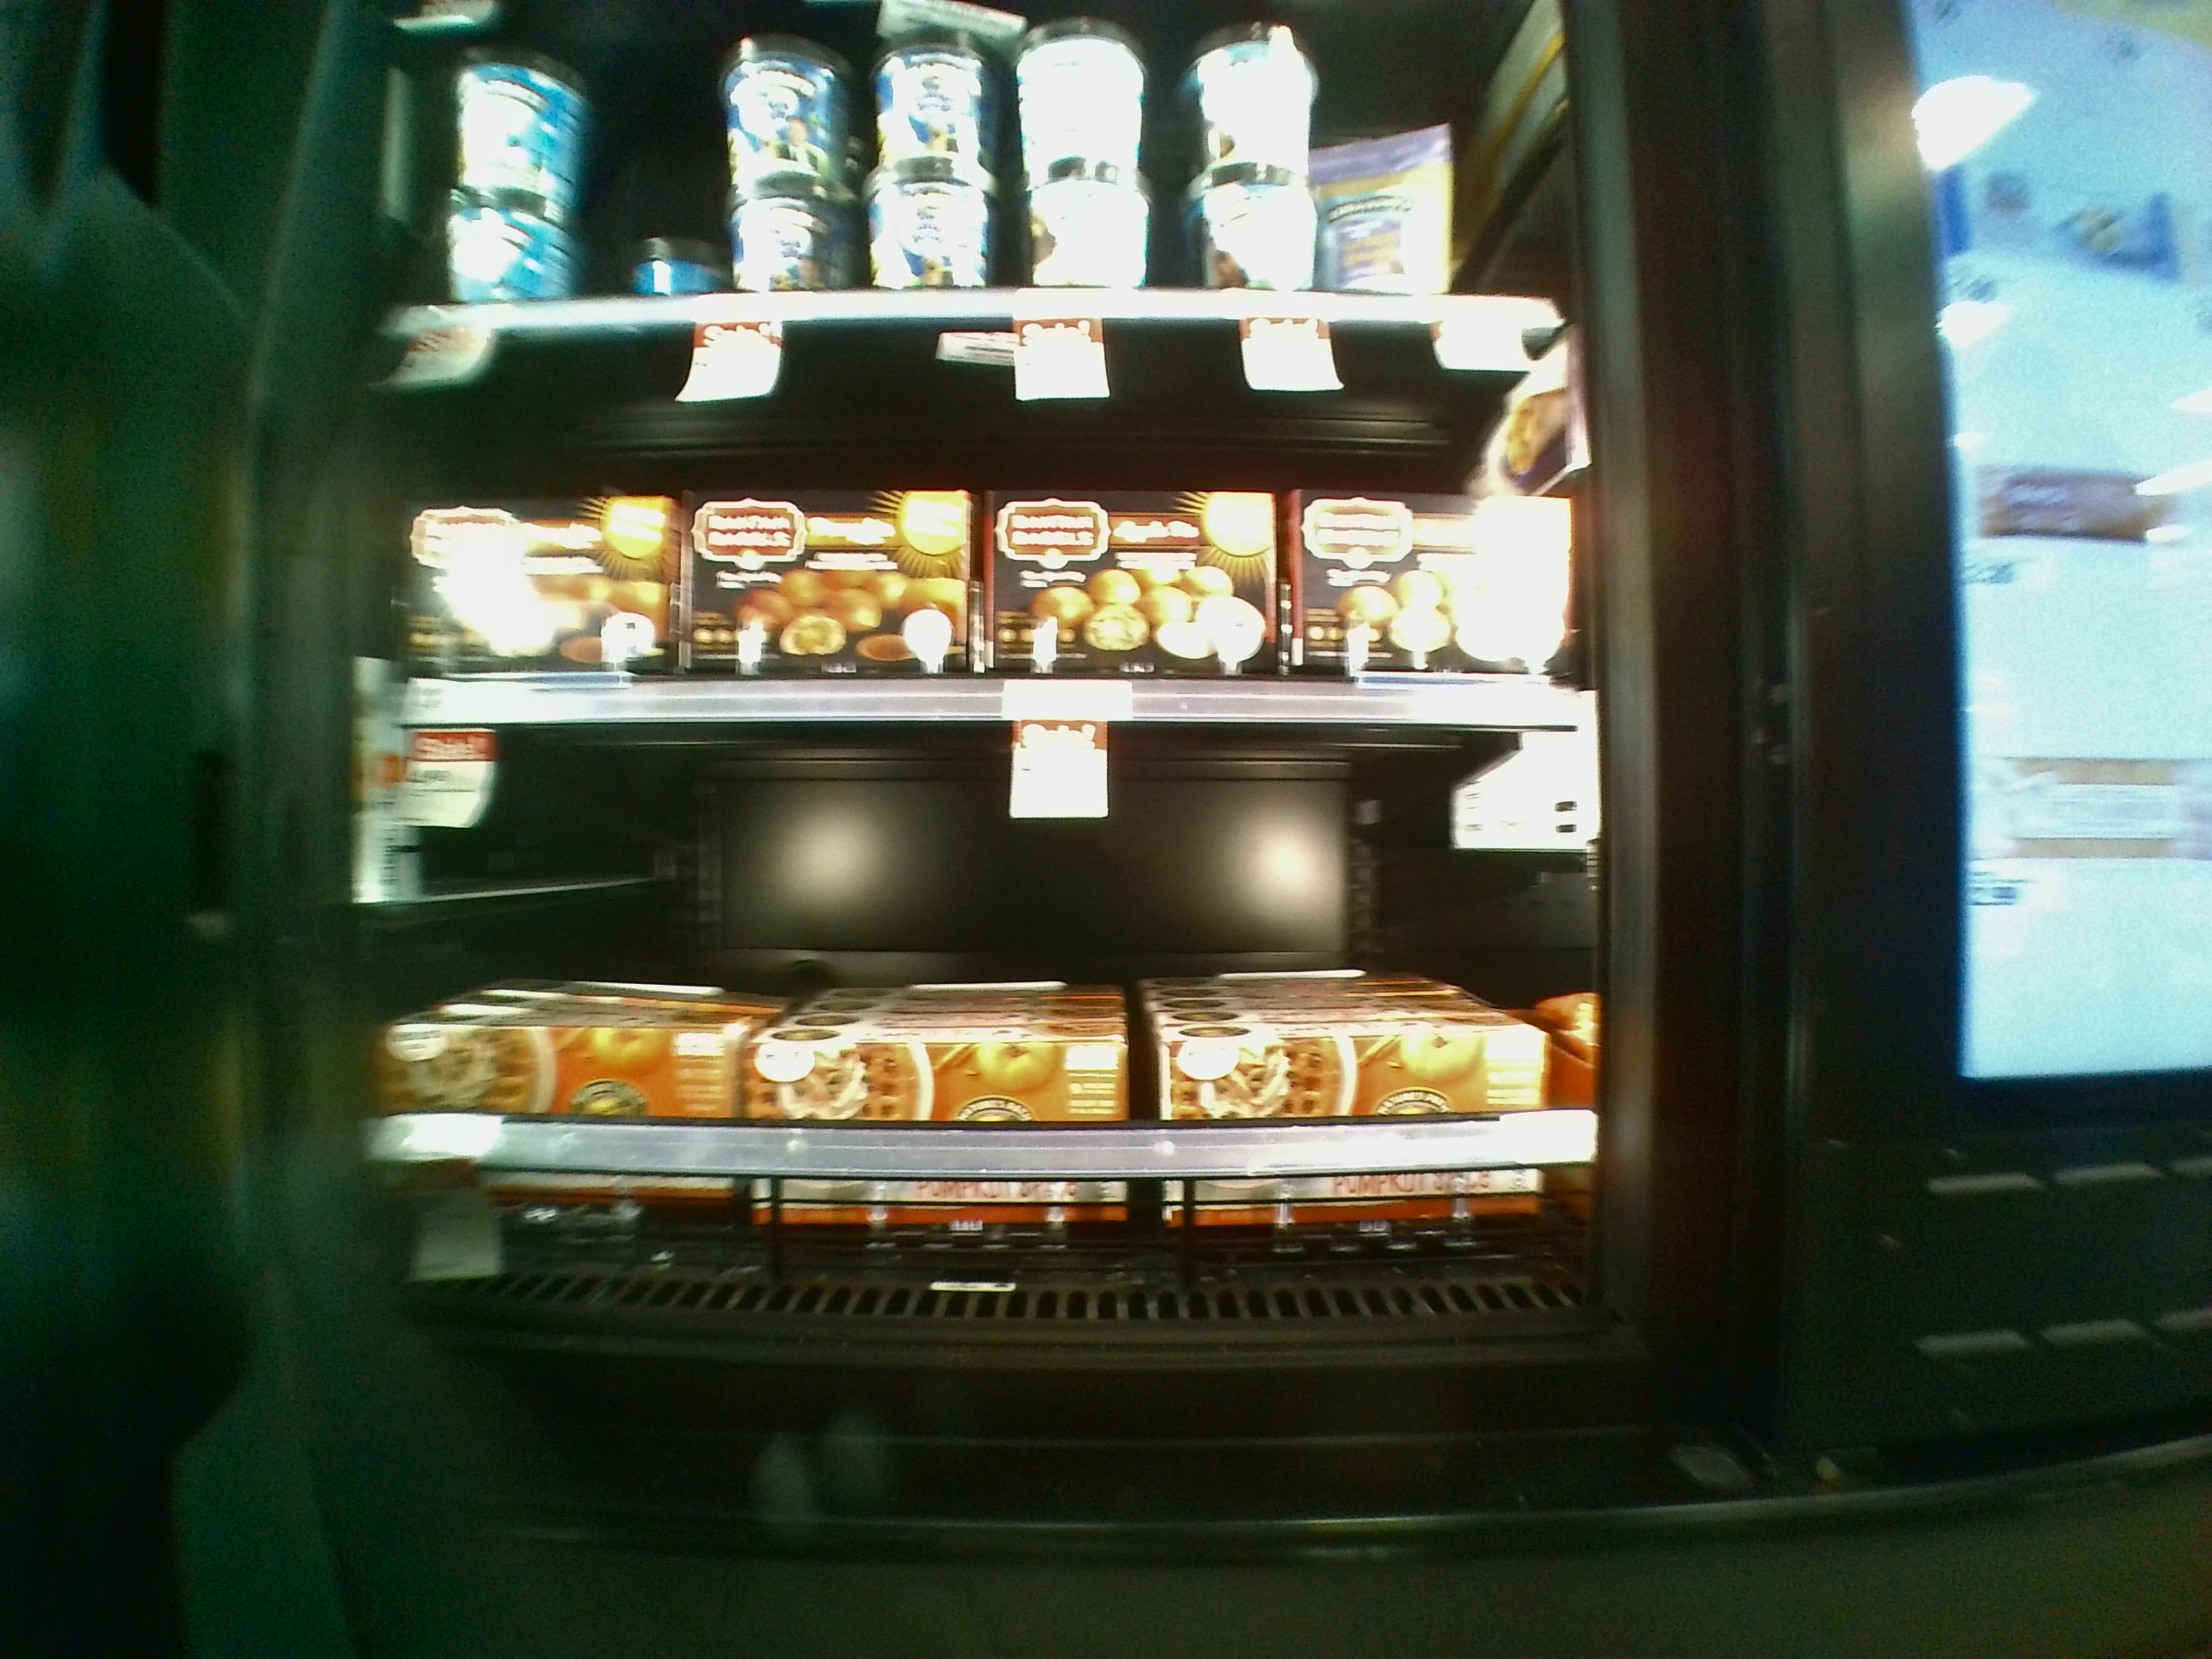shelf: (312, 683, 1630, 1352), (345, 319, 1599, 723)
